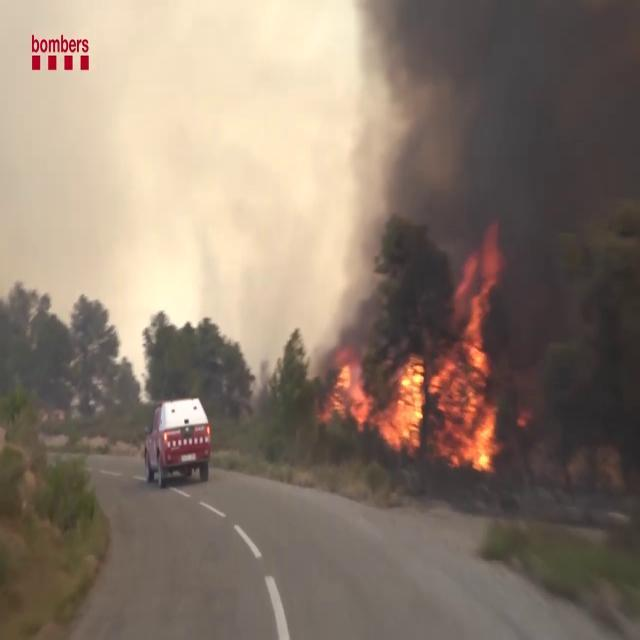Fire: (327, 233, 514, 474)
Smoke: (332, 0, 640, 374)
